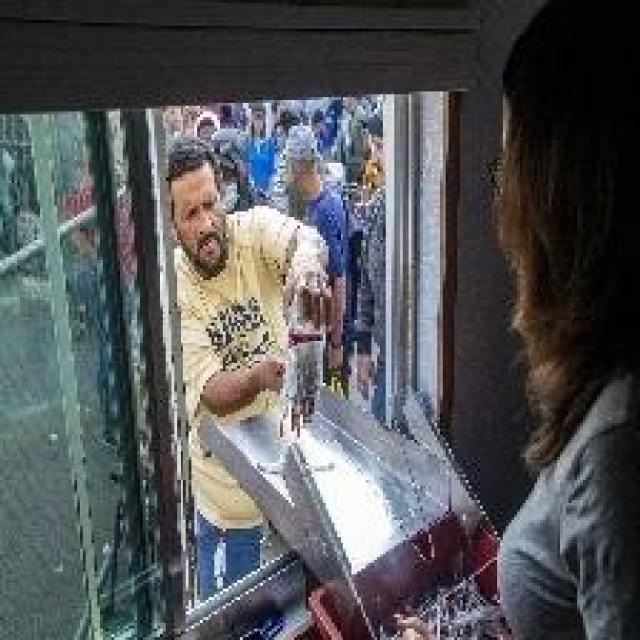syringe: (273, 278, 331, 442)
